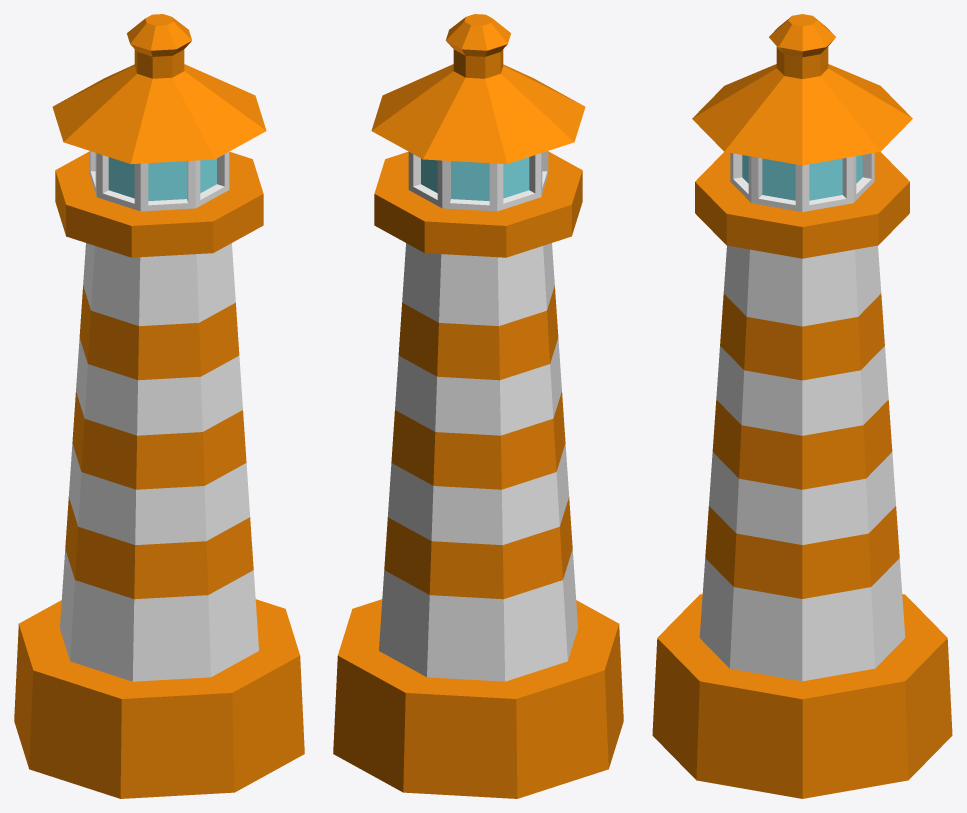
Rendered from phare.glb.
3 views of the same model, side by side, from view 1: azimuth 30°, elevation 25°; view 2: azimuth 150°, elevation 25°; view 3: azimuth 270°, elevation 25° (orthographic).
Parts seen in each view (by area): view 1: Light; view 2: Light; view 3: Light.
Boxes of the visible parts, x1=… form: Light: x1=14, y1=14, x2=304, y2=798; Light: x1=333, y1=14, x2=623, y2=798; Light: x1=652, y1=14, x2=952, y2=798.
Size of the model in its own units: 11 by 28.95 by 11.
